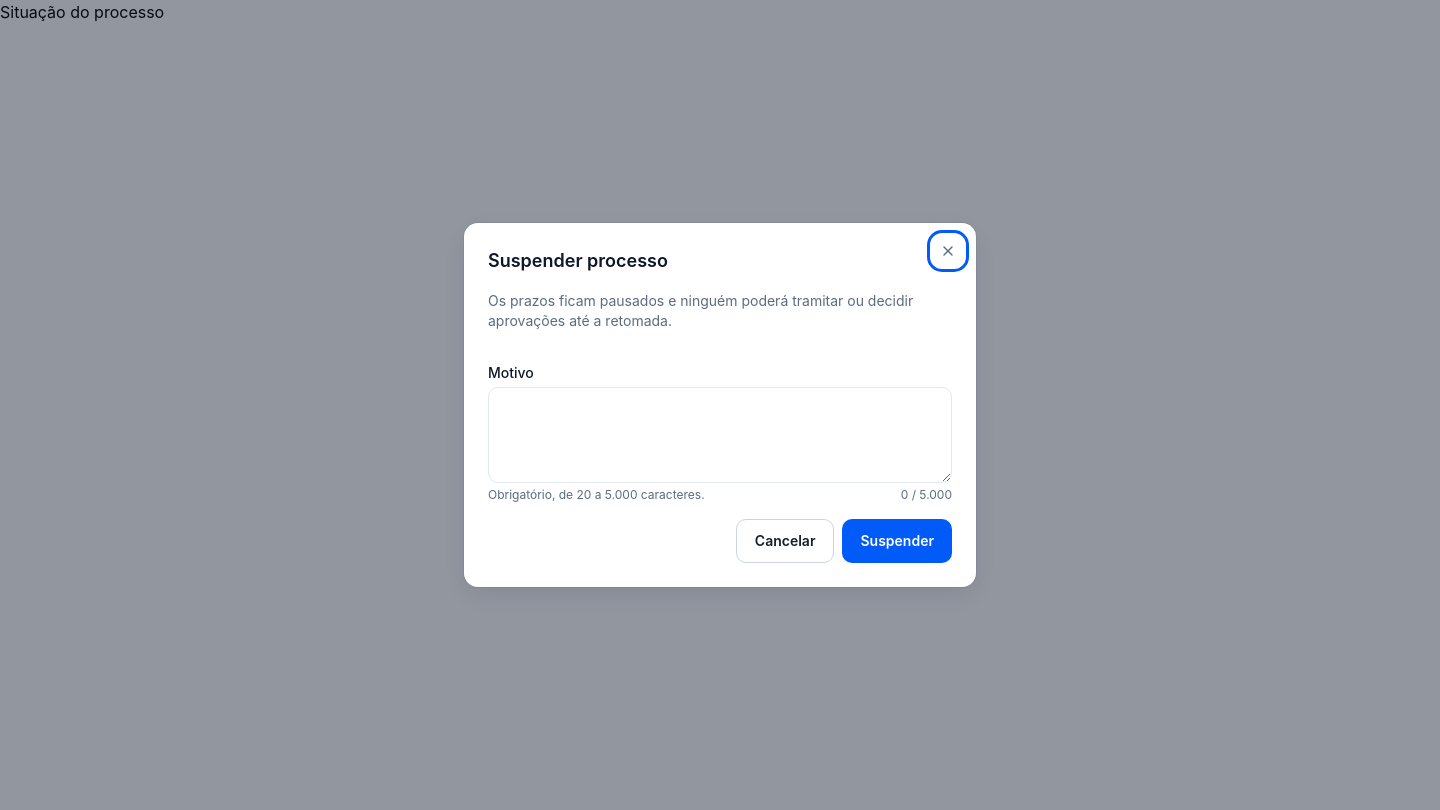
SCR-116 · Diálogo "Suspender processo" (US-008) › [Validação] 409 INVALID_PROCESS_STATUS: avisa e fecha
In the text box labelled "Motivo": (720, 435) [488,387,952,483], type "Aguardando definição da dotação pela Secretaria de Finanças"
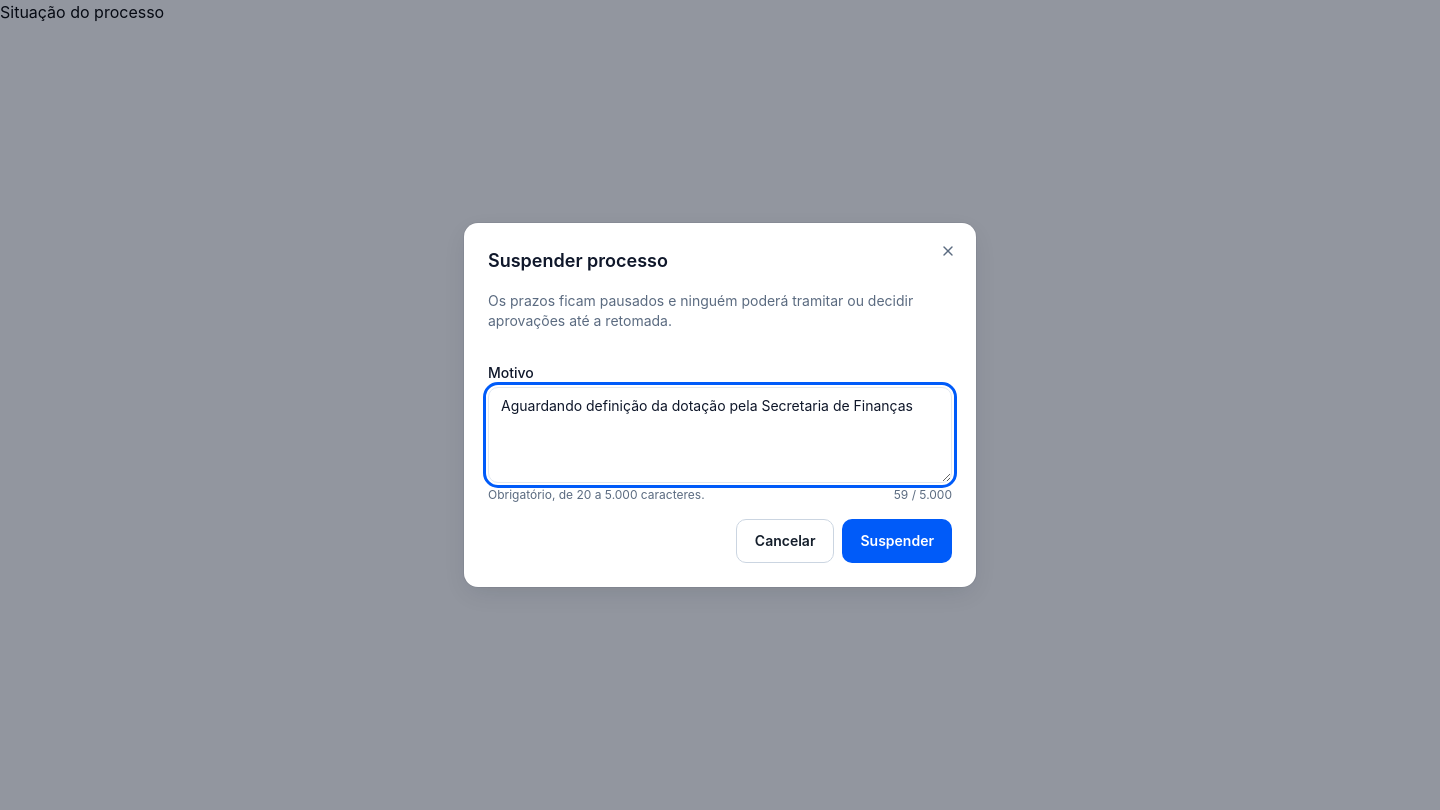
Click the button "Suspender": (897, 541) [842,519,952,563]
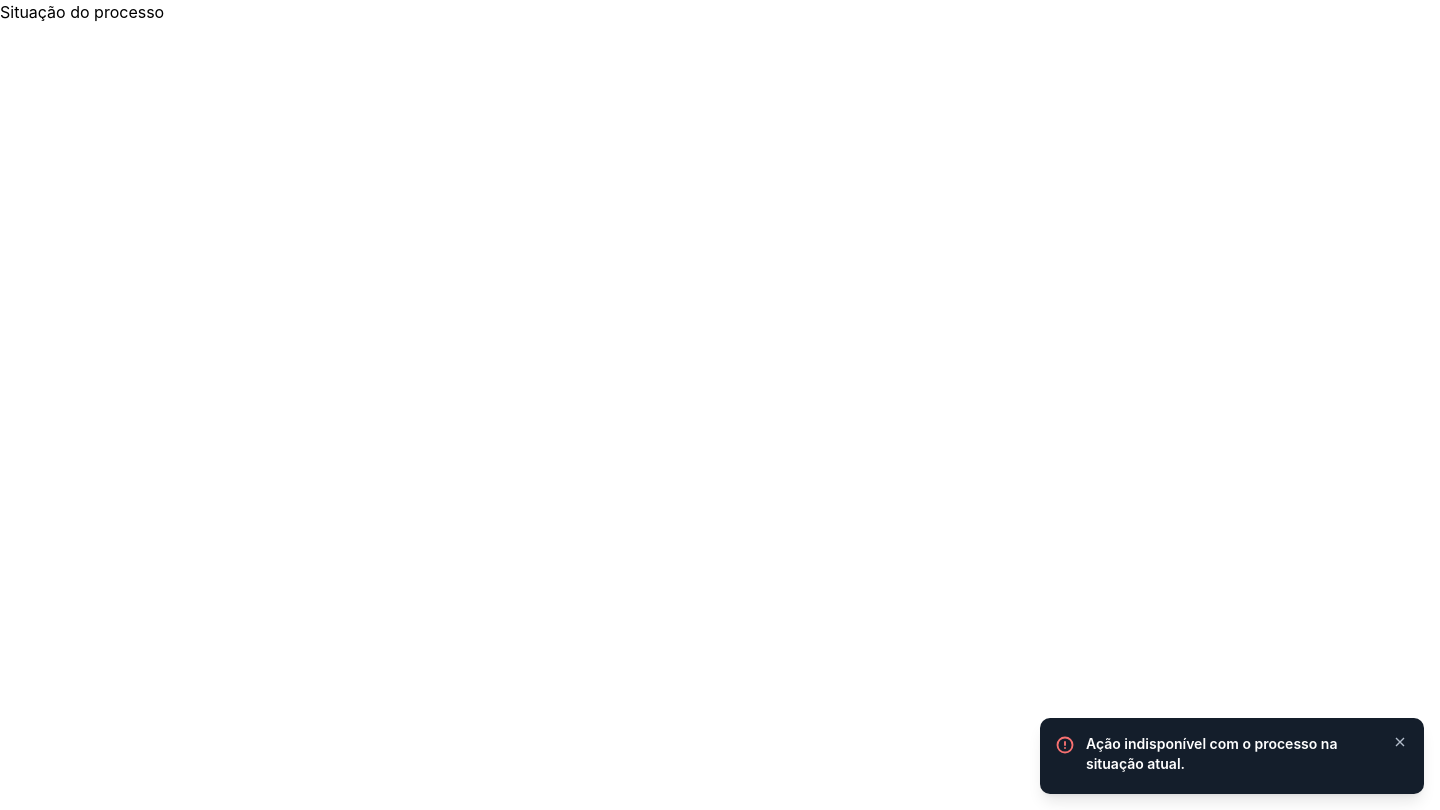
expect the text "Ação indisponível com o processo na situação atual." is shown: met, box [1086,734,1376,774]
